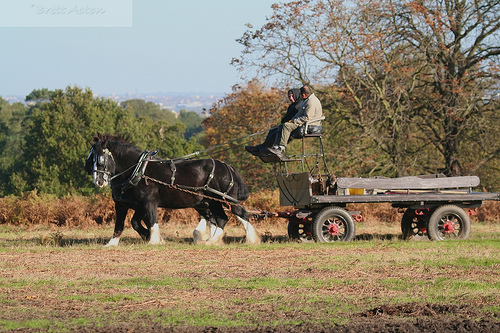horse: (85, 133, 263, 248)
